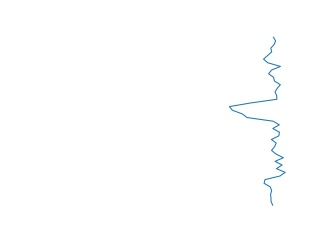interdistributaryEstuary: (225, 37, 292, 206)
